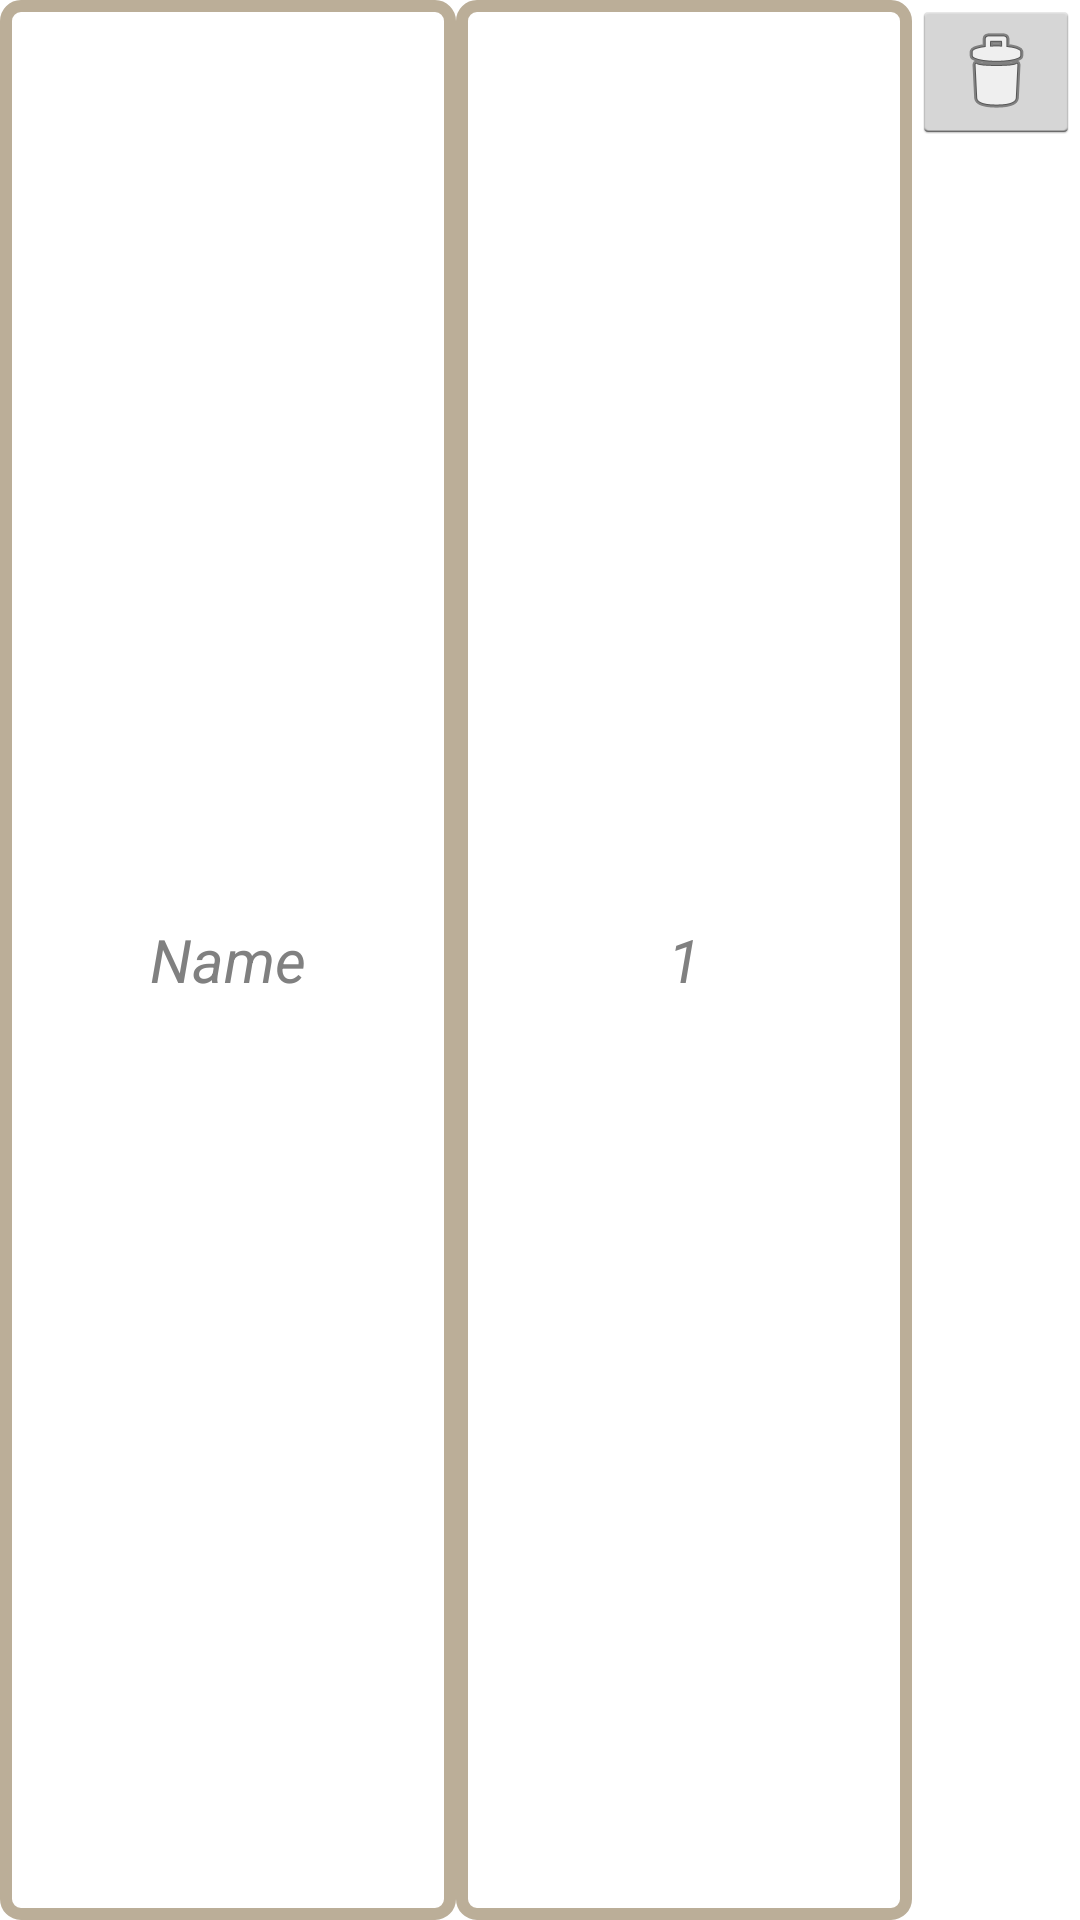

Named icons in this screenshot (1080px×1920px) and their centers, point (x, y):
delete: point (996, 73)
